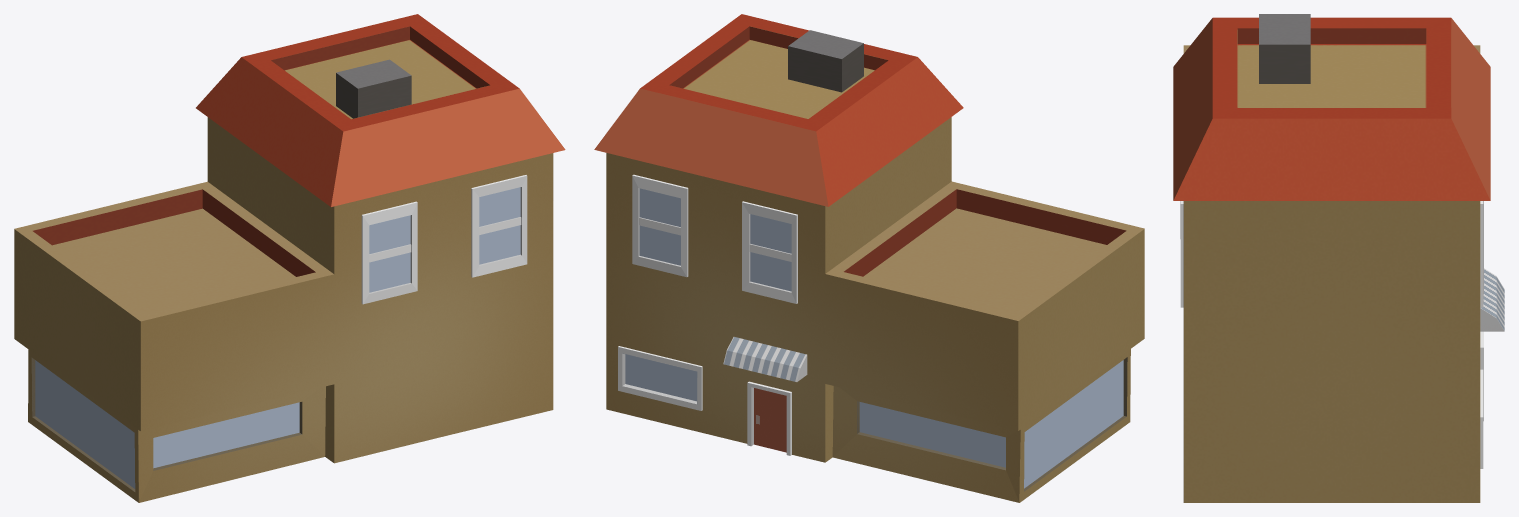
The model's file is House_01_UV_Color.fbx.
3 views of the same model, side by side, from view 1: azimuth 30°, elevation 25°; view 2: azimuth 150°, elevation 25°; view 3: azimuth 270°, elevation 25° (orthographic). The views are drawn at different scales.
Visible parts, largest first — view 1: House_01_UV_Color; view 2: House_01_UV_Color; view 3: House_01_UV_Color.
Part boxes in pixels (x1,y1,x2,y2): House_01_UV_Color: (14,14,565,502); House_01_UV_Color: (594,14,1144,502); House_01_UV_Color: (1173,14,1504,502).
Size of the model in its own units: 2116 by 1623 by 1233.
